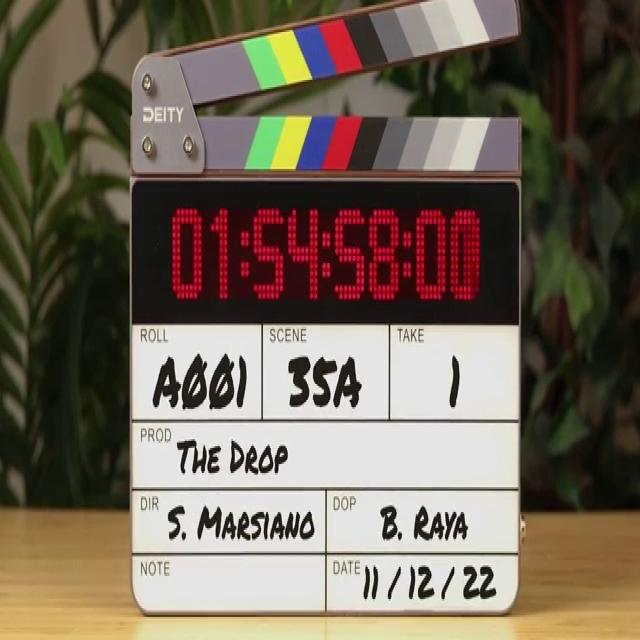Clapperboard: (131, 0, 526, 620)
